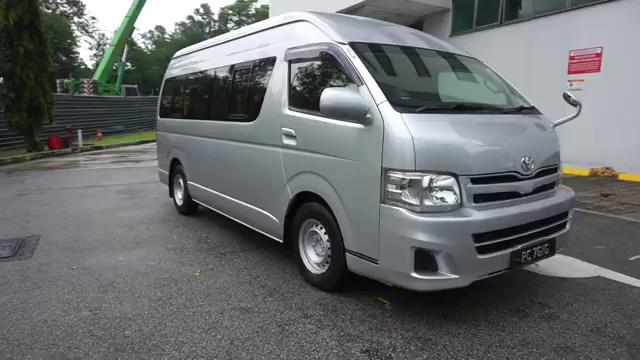Van: (147, 12, 579, 286)
